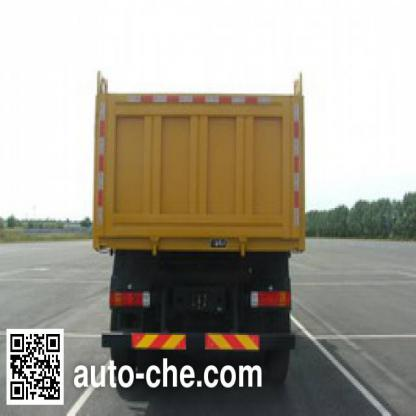normal-truck: (90, 62, 317, 347)
